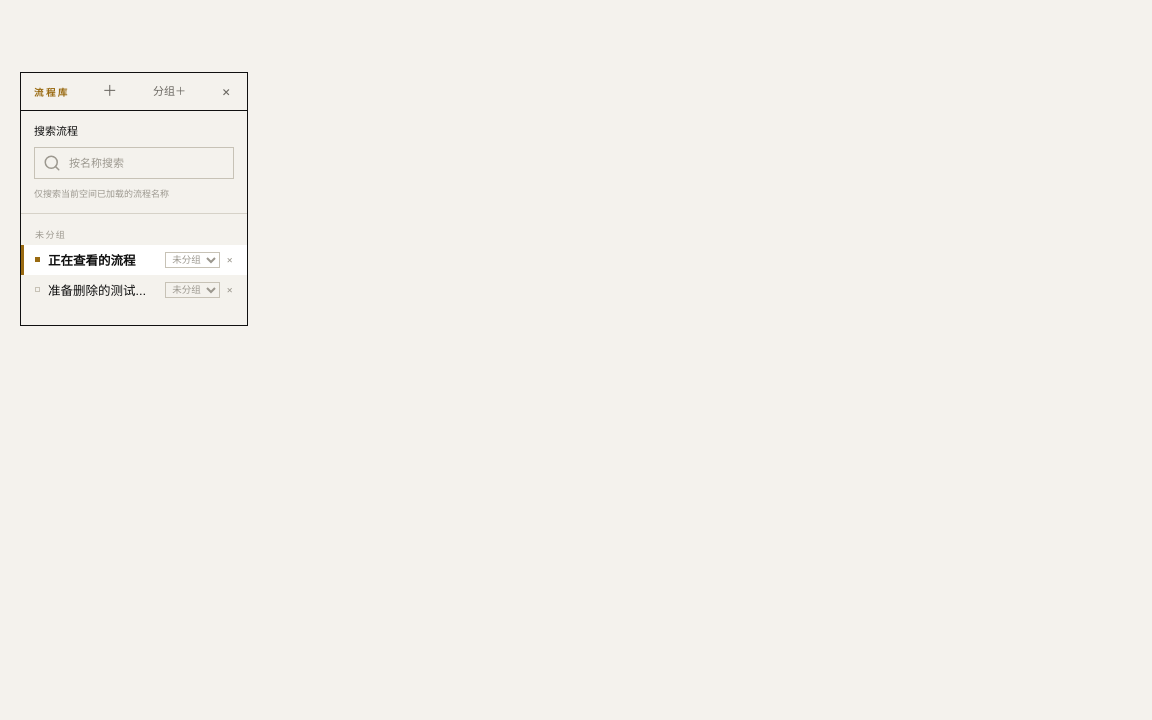
Test: 删除流程前的 Arc Dialog 确认 › opens confirmation without deleting or selecting the other flow
The image size is (1152, 720).
Click the 3rd button titled "删除": (230, 290) x1=226 y1=284 x2=233 y2=296
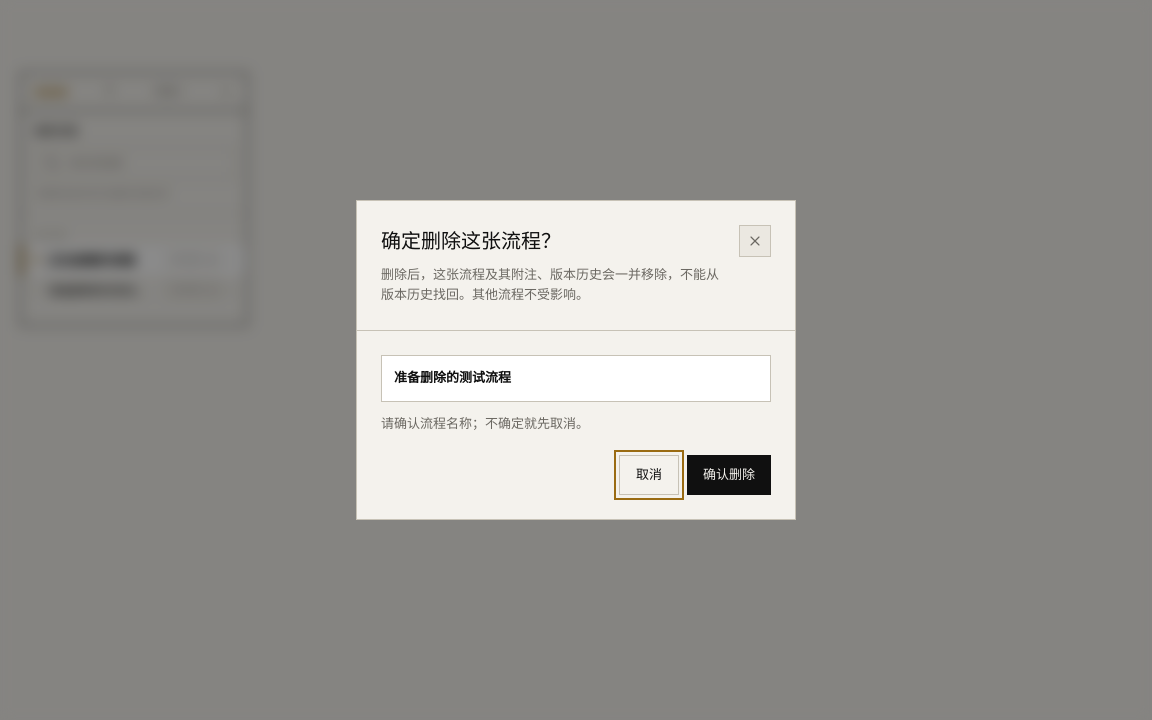
Expected: the text "准备删除的测试流程" is shown, x1=381 y1=355 x2=771 y2=402
